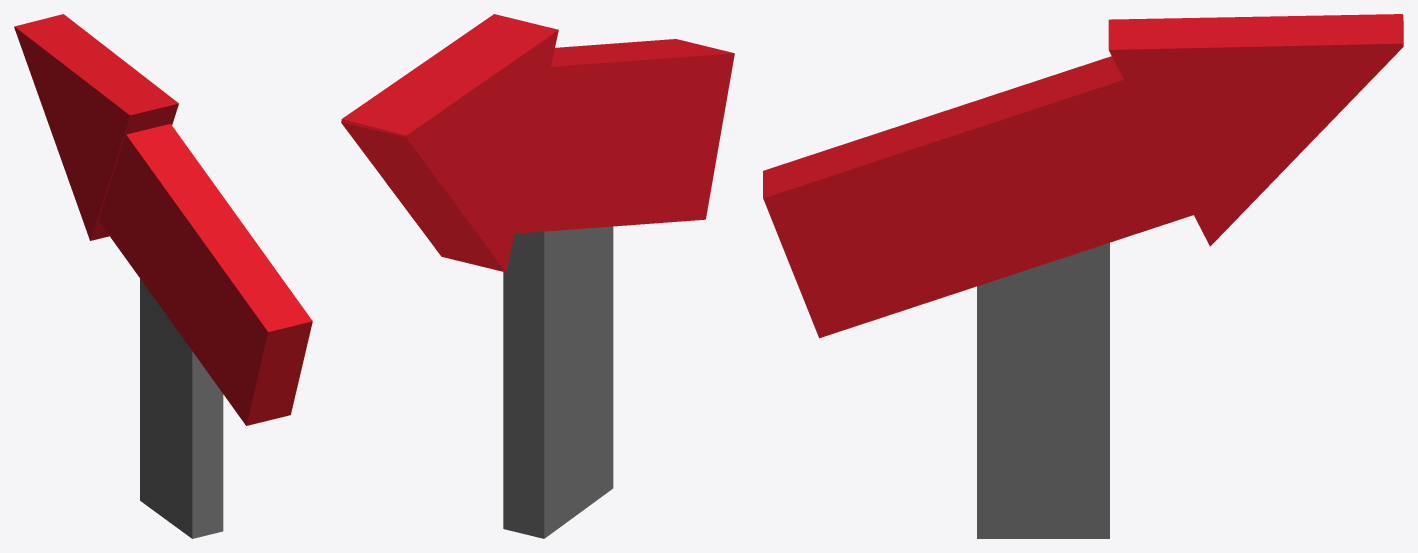
Rendered from Big arrow(conjoined).fbx.
The picture shows the model from 3 angles, left to right: view 1: azimuth 30°, elevation 25°; view 2: azimuth 150°, elevation 25°; view 3: azimuth 270°, elevation 25°; orthographic projection. The views are drawn at different scales.
Parts seen in each view (by area): view 1: Cube; view 2: Cube; view 3: Cube.
Part boxes in pixels (x1=…): Cube: x1=14, y1=14, x2=312, y2=538; Cube: x1=341, y1=14, x2=734, y2=538; Cube: x1=763, y1=14, x2=1403, y2=538.
Size of the model in its own units: 49 by 375 by 436.
